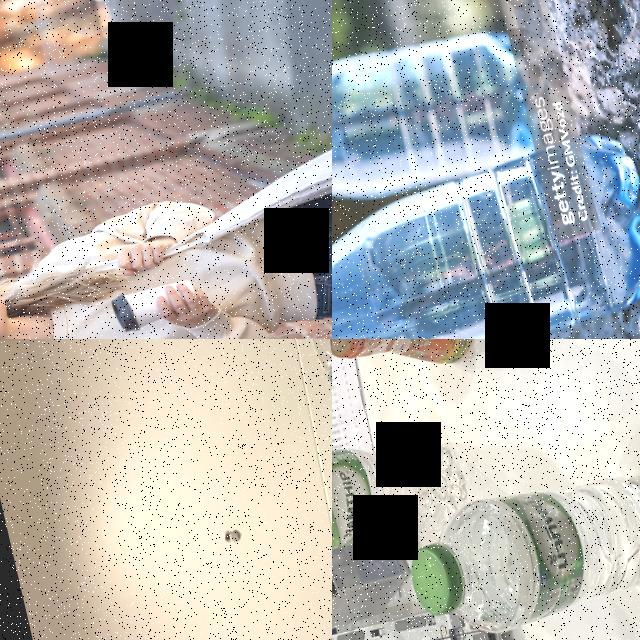bottle: (332, 127, 640, 339), (332, 10, 564, 238), (395, 456, 640, 640), (332, 412, 472, 576)
cup: (108, 274, 203, 334)
